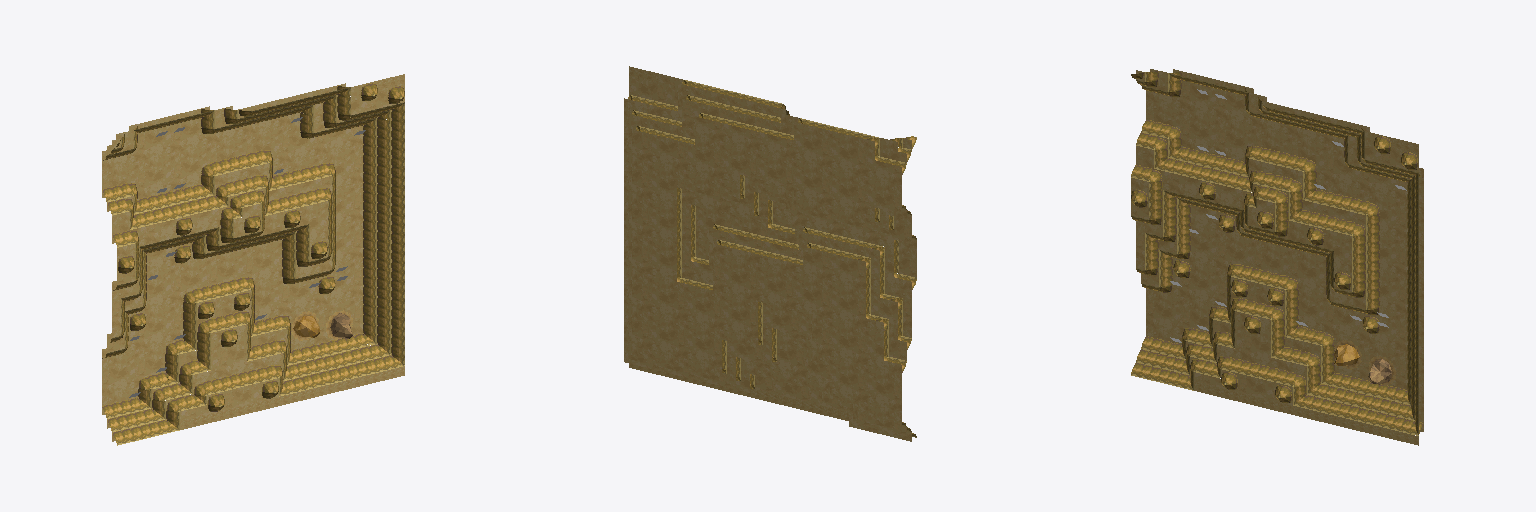
3 views of the same model, side by side, from view 1: azimuth 30°, elevation 25°; view 2: azimuth 150°, elevation 25°; view 3: azimuth 330°, elevation 25° (orthographic).
Visible parts, largest first — view 1: map; view 2: map; view 3: map.
Part boxes in pixels (x1,y1,x2,y2): map: (102, 74, 404, 445); map: (624, 66, 916, 441); map: (1131, 69, 1423, 445).
Size of the model in its own units: 32 by 32 by 4.
Materials: 8 (7 with a texture image).